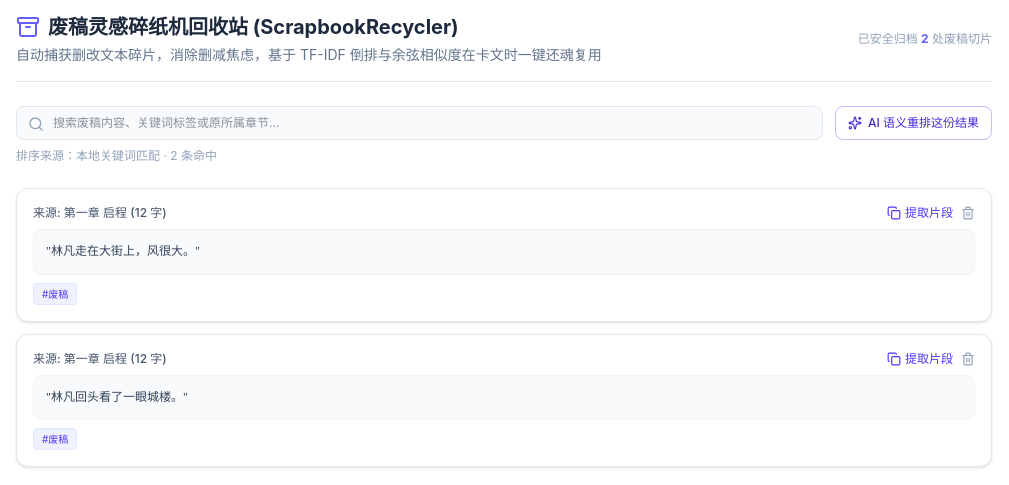
ScrapbookRecycler UI Components › reorders the local matches only on the explicit AI run, at the projected boundary
The image size is (1009, 485).
Step 1. Type "林凡" into the field with placeholder "搜索废稿内容、关键词标签或原所属章节..." → (420, 123), box [16,106,823,140]
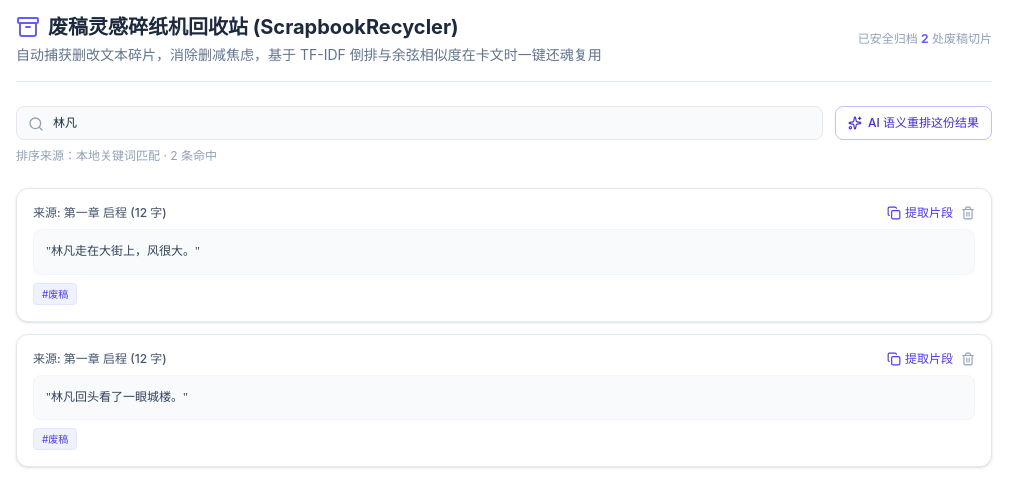
Step 2. Click the button with test id "scrapbook-ai-run" → (914, 123), box [835,106,992,140]
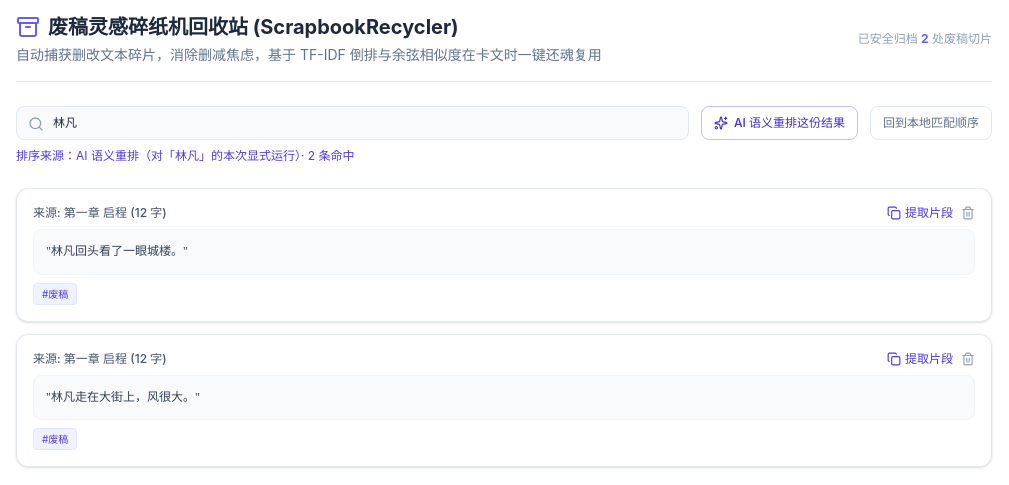
Expected: the text with test id "scrapbook-result-origin" shows "排序来源：AI 语义重排（对「林凡」的本次显式运行）", [16,148,354,163]
